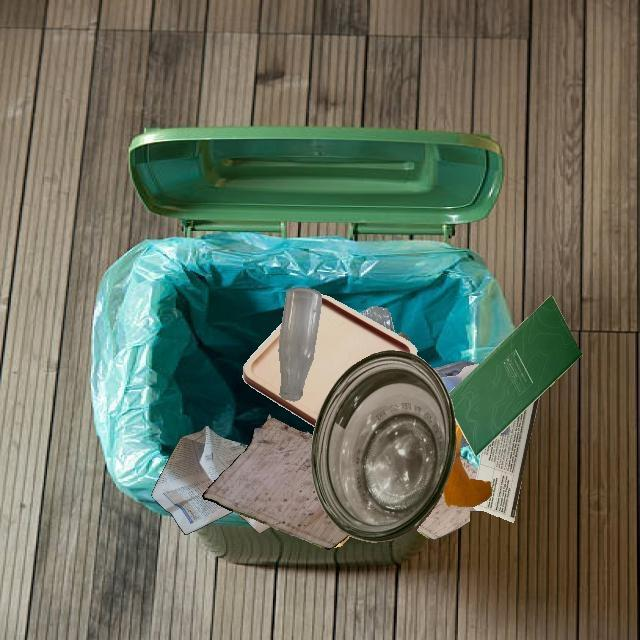biowaste: (443, 455, 492, 507)
combustible waste: (242, 294, 417, 427)
glass: (311, 350, 457, 543), (279, 287, 322, 401)
paper: (448, 296, 582, 456), (203, 418, 349, 549), (151, 426, 234, 534), (472, 396, 540, 523), (212, 416, 268, 522), (416, 491, 481, 540)
plastic: (312, 369, 397, 537), (443, 377, 509, 447), (441, 364, 479, 393), (359, 306, 395, 333), (455, 424, 463, 458)
